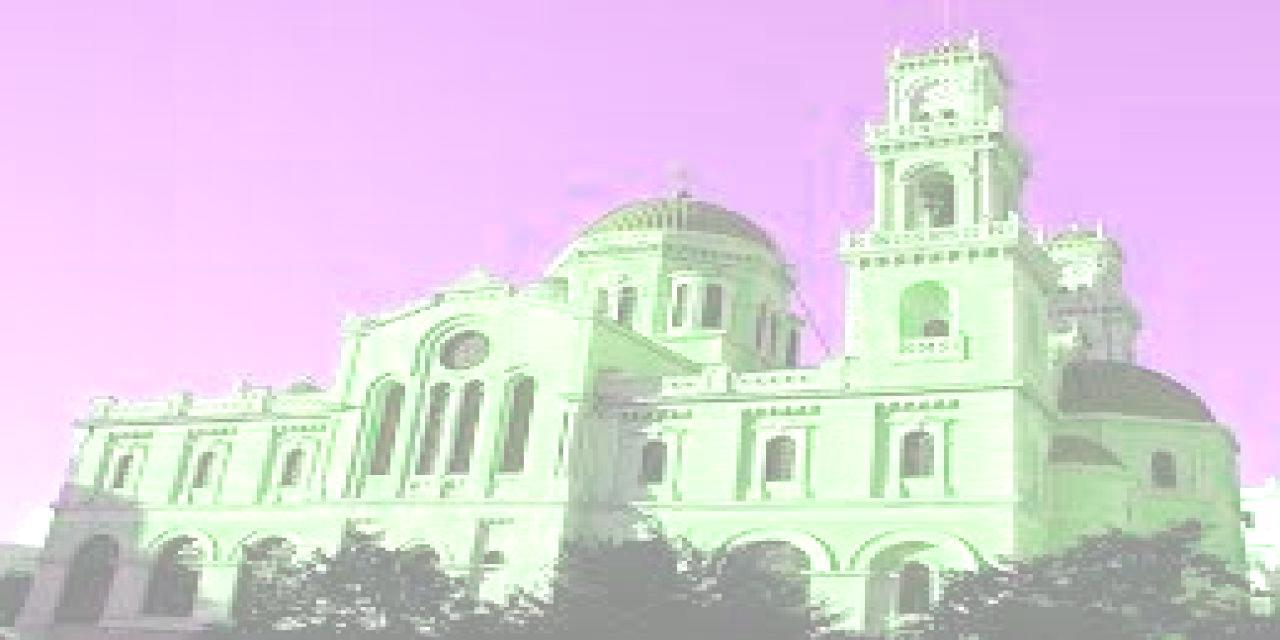Agios Minas: (9, 39, 1242, 640)
